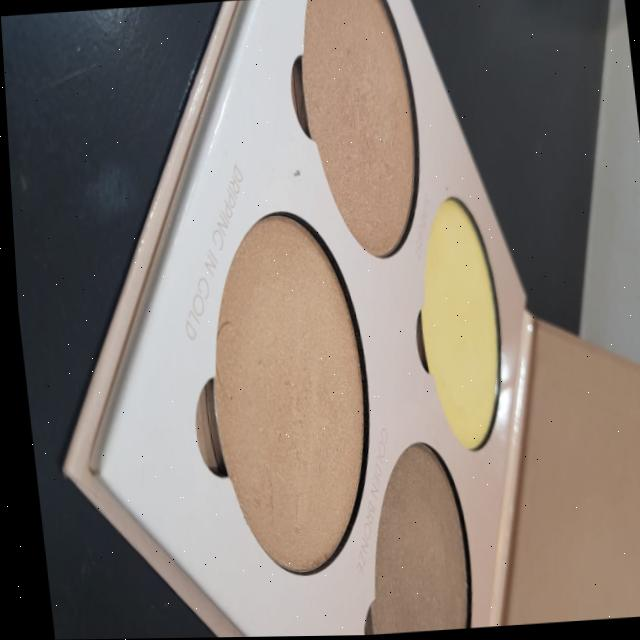bronzer: (170, 186, 410, 595), (268, 0, 446, 263), (339, 439, 490, 636)
powder: (388, 175, 525, 475)
